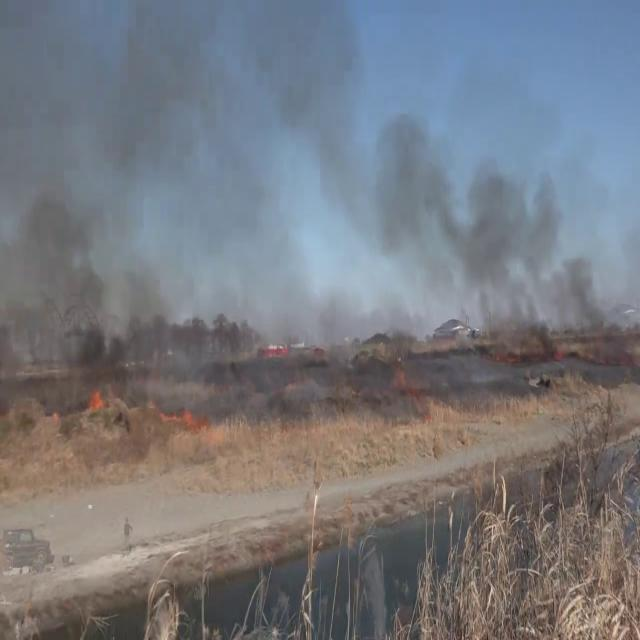Fire: (85, 379, 109, 417)
Smoke: (0, 0, 348, 392), (358, 106, 618, 357)
